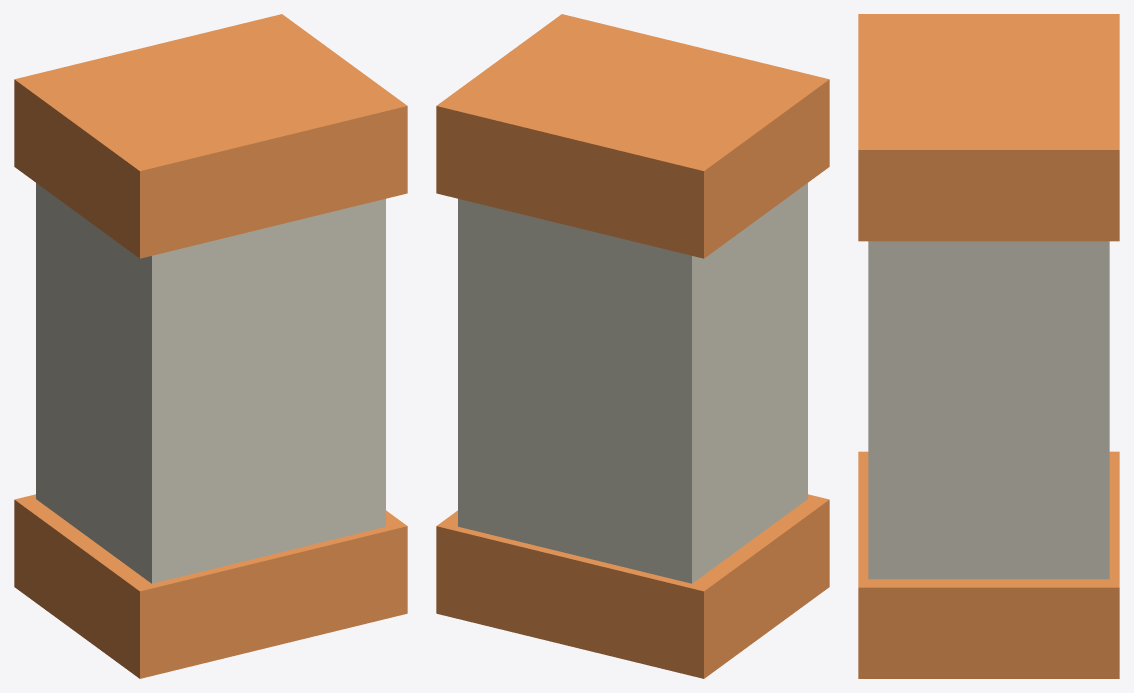
Rendered from fuse.glb.
3 views of the same model, side by side, from view 1: azimuth 30°, elevation 25°; view 2: azimuth 150°, elevation 25°; view 3: azimuth 270°, elevation 25° (orthographic). The views are drawn at different scales.
Visible parts, largest first — view 1: cartridge, contact_0.24, contact_0; view 2: cartridge, contact_0.24, contact_0; view 3: cartridge, contact_0.24, contact_0.
Part boxes in pixels (x1,y1,x2,y2): cartridge: (36, 183, 385, 583); contact_0.24: (14, 14, 407, 258); contact_0: (14, 494, 407, 678); cartridge: (458, 183, 807, 583); contact_0.24: (436, 14, 829, 258); contact_0: (436, 494, 829, 678); cartridge: (868, 241, 1109, 579); contact_0.24: (858, 14, 1119, 241); contact_0: (858, 451, 1119, 678).
Bounding box in the file's own units: 0.16 × 0.29 × 0.13.
